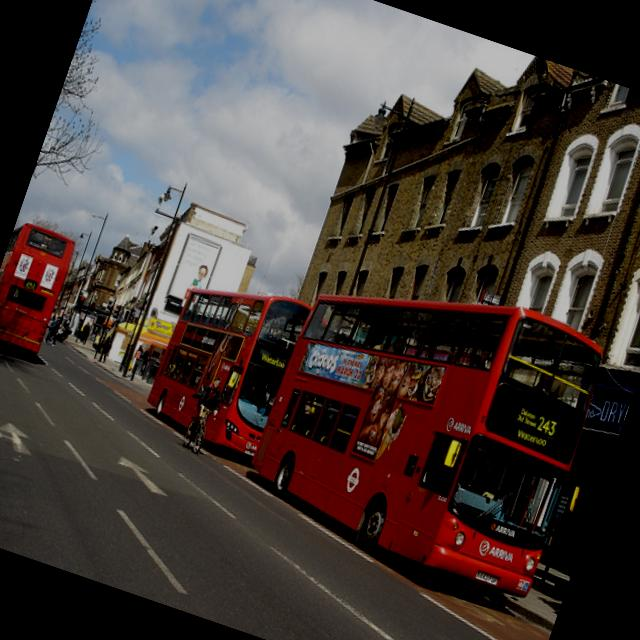Vehicle: (232, 238, 616, 612), (138, 264, 316, 466), (0, 220, 79, 369)
